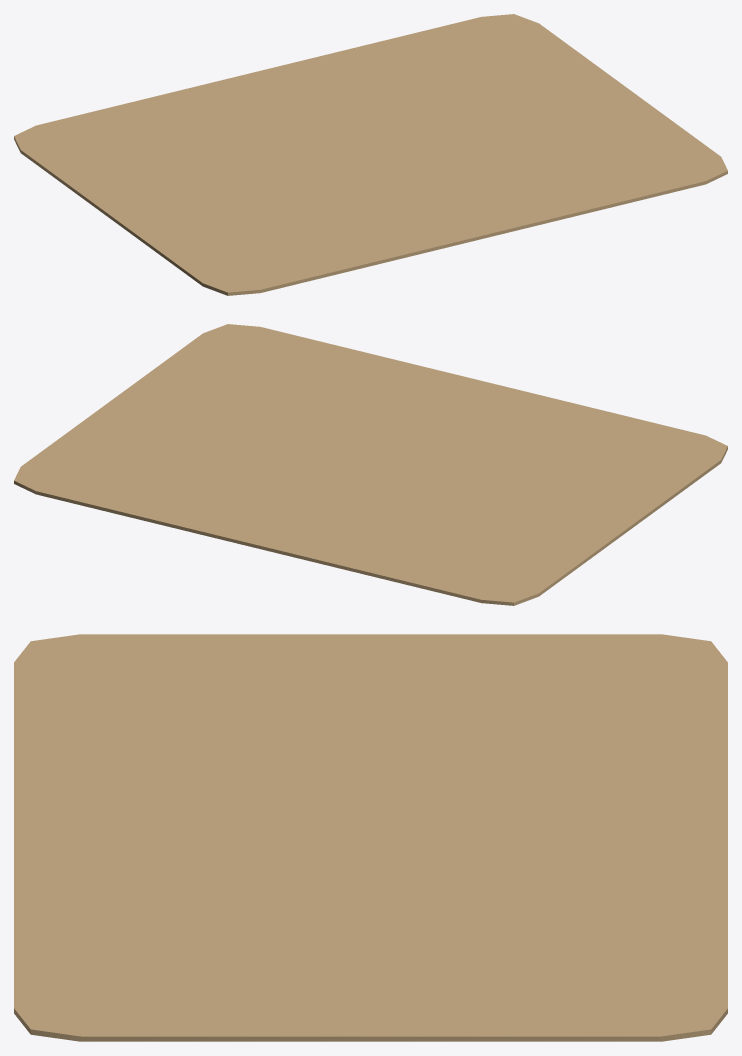
The model's file is HQ_Carpet.fbx.
3 views of the same model, one above another, from view 1: azimuth 30°, elevation 25°; view 2: azimuth 150°, elevation 25°; view 3: azimuth 270°, elevation 25° (orthographic). The views are drawn at different scales.
Parts seen in each view (by area): view 1: HQ_Carpet; view 2: HQ_Carpet; view 3: HQ_Carpet.
Boxes of the visible parts, x1=… form: HQ_Carpet: x1=14, y1=14, x2=727, y2=295; HQ_Carpet: x1=14, y1=324, x2=727, y2=605; HQ_Carpet: x1=14, y1=634, x2=727, y2=1041.
Bounding box in the file's own units: 15 × 0.092 × 11.25.
